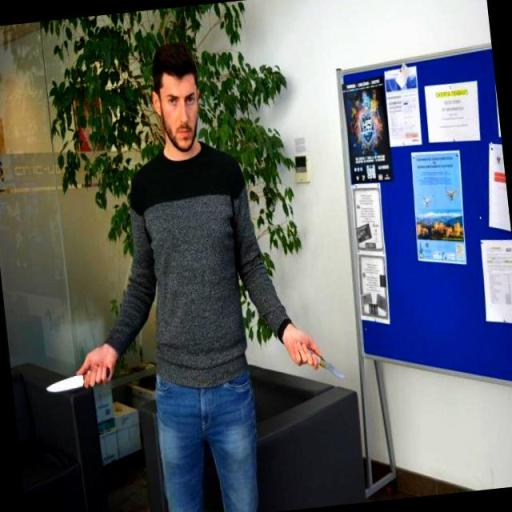knife: (40, 364, 114, 398), (303, 340, 349, 386)
